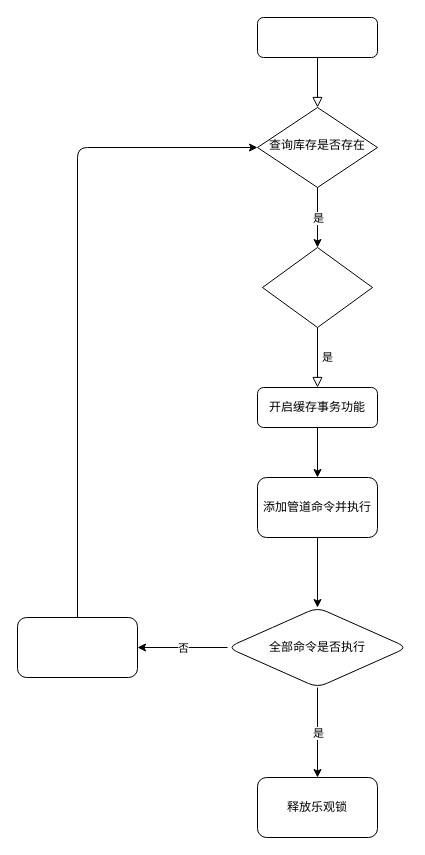
Image size: 425x855. Some labels were removed from this diagram. The shapes that lost their labels are listed below. From the top down, each one's box as (x1, y1, x2, y2) in pixels, then its label:
(256, 16, 378, 58): 库存扣减开始
(262, 246, 372, 328): 商品名称加乐观锁
(16, 616, 138, 678): 修改失败，进入重试
